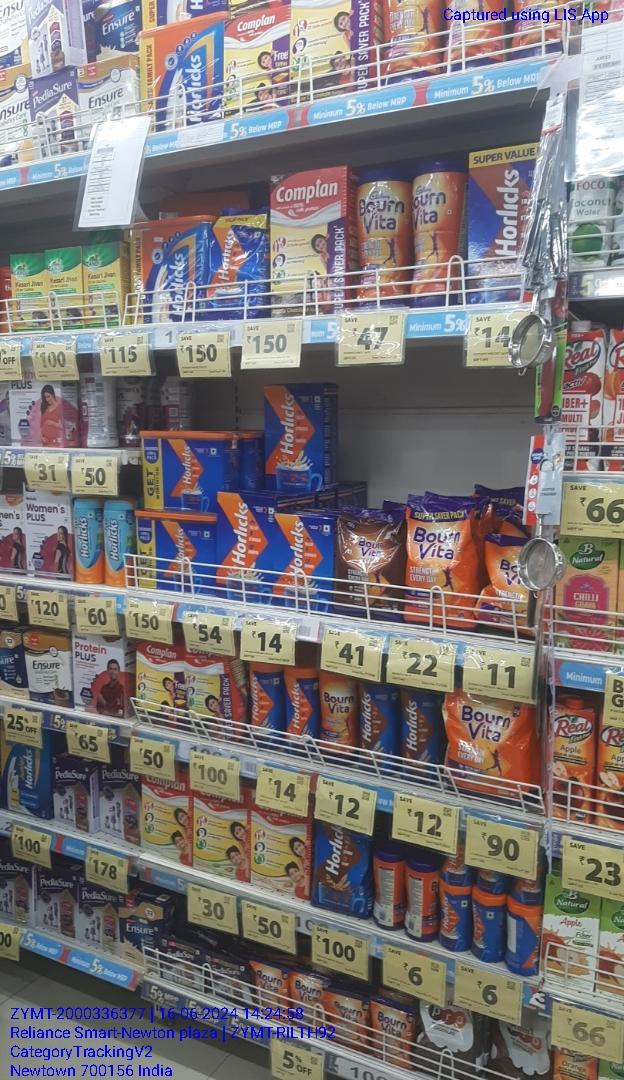ENSURE_VANILLA_400_G_PACK: (120, 886, 158, 961)
PEDIASURE_CHOCOLATE_500_G_PACK: (100, 756, 142, 843), (35, 864, 78, 939), (53, 762, 97, 825)
PEDIASURE_VANILLA_500_G_PACK: (78, 878, 121, 955), (0, 851, 34, 923)
